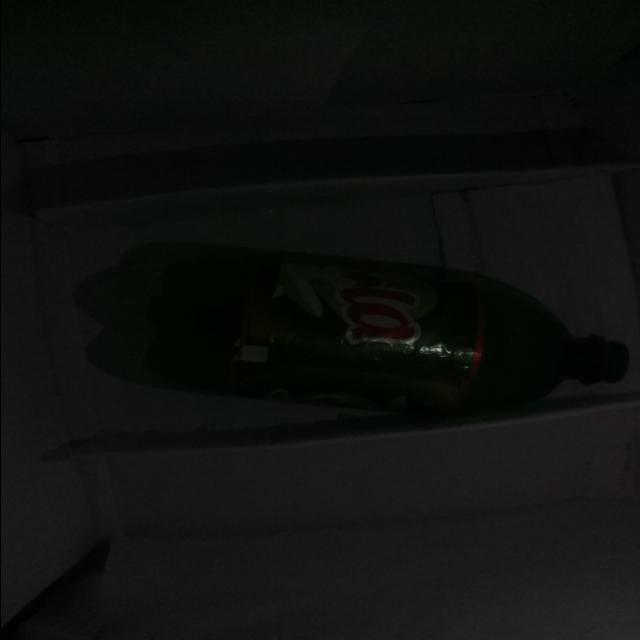寶特瓶: (77, 241, 630, 435)
